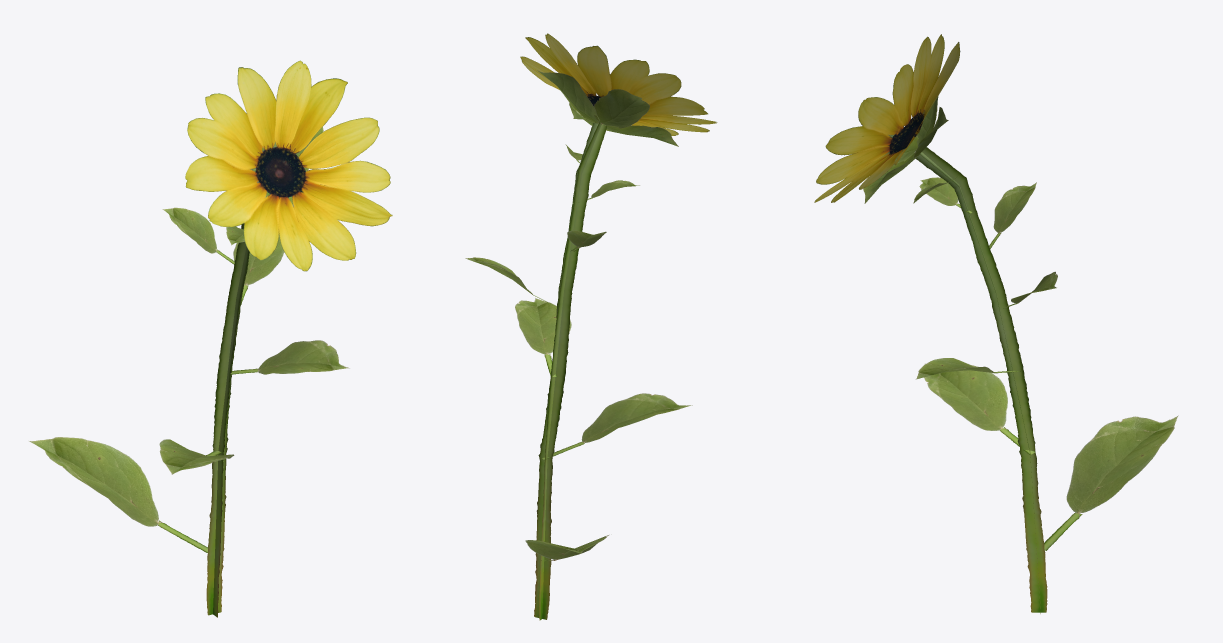
File: Sunflower2.fbx
3 renders of one model, left to right at view 1: azimuth 30°, elevation 25°; view 2: azimuth 150°, elevation 25°; view 3: azimuth 270°, elevation 25°, orthographic. The views are drawn at different scales.
Visible parts, largest first — view 1: Sunflower2; view 2: Sunflower2; view 3: Sunflower2.
Part boxes in pixels (bbox=[...]): Sunflower2: bbox=[29, 60, 392, 617]; Sunflower2: bbox=[465, 33, 717, 620]; Sunflower2: bbox=[814, 34, 1178, 613].
Bounding box in the file's own units: 0.3919 × 0.8257 × 0.537.
